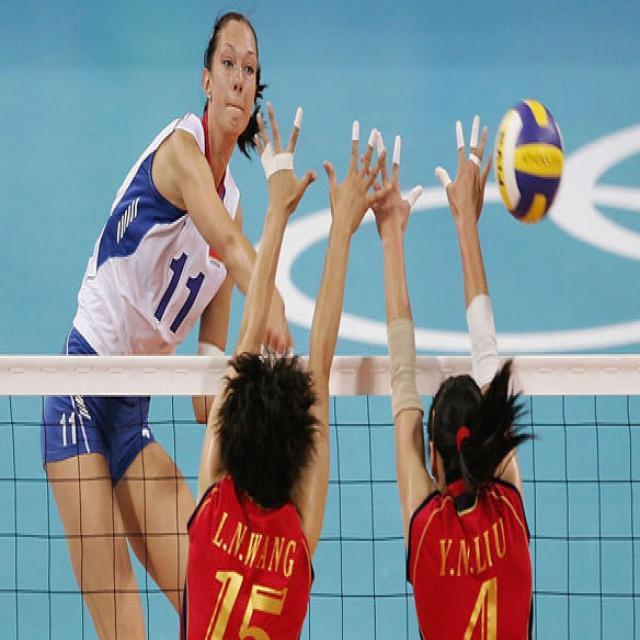volleyball: (496, 100, 564, 223)
